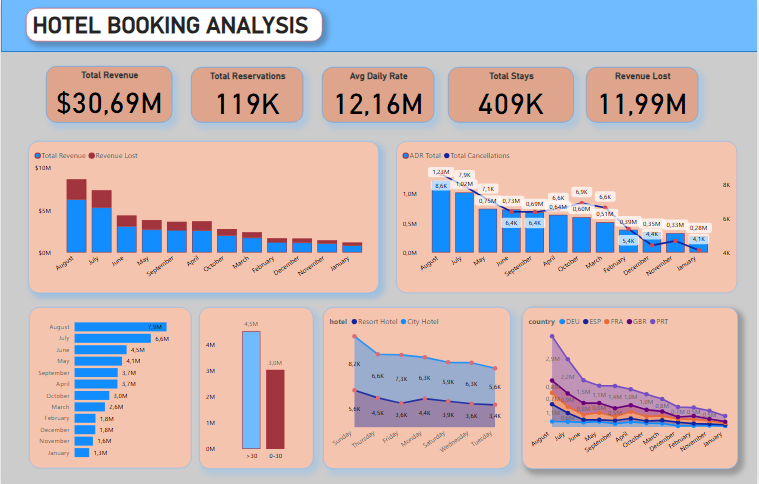

This screenshot's page, from the dashboard's own definition file:
{"tool":"powerbi","page":{"name":"Income","canvas":[1400,900],"ordinal":4},"visuals":[{"type":"columnChart","fields":{"Y":["Total Measures.Total Revenue","Total Measures.Revenue Lost"],"Category":["hotel_bookings.arrival_date_month"]},"box":[50,261.7,650,281.7],"z":0},{"type":"lineStackedColumnComboChart","fields":{"Category":["hotel_bookings.arrival_month"],"Y2":["Total Measures.Total Cancellations"],"Y":["Total Measures.ADR Total"]},"box":[731.7,261.7,631.7,281.7],"z":1000},{"type":"stackedAreaChart","fields":{"Category":["DateTable.Weekday"],"Y":["Total Measures.Total Cancellations"],"Series":["hotel_bookings.hotel"]},"box":[596.3,569.4,347.9,299.9],"z":2000},{"type":"columnChart","fields":{"Category":["hotel_bookings.Lead Changed"],"Y":["Total Measures.ADR Total"]},"box":[366.7,569.4,212.1,299.9],"z":3000},{"type":"clusteredBarChart","fields":{"Category":["hotel_bookings.arrival_date_month"],"Y":["Total Measures.Weekly Room Revenue"]},"box":[51.5,569.4,301.1,298.7],"z":4000},{"type":"stackedAreaChart","fields":{"Series":["hotel_bookings.country"],"Y":["Total Measures.Weekly Room Revenue"],"Category":["hotel_bookings.arrival_date_month"]},"box":[963.9,568.9,400,300],"z":5000},{"type":"shape","box":[0,-4.9,1463.9,101.6],"z":6000},{"type":"textbox","title":"HOTEL BOOKING ANALYSIS","box":[45.9,14.8,549.2,62.3],"z":7000},{"type":"card","title":"Total Revenue","fields":{"Values":["Total Measures.Total Revenue"]},"box":[83.7,122.5,234.1,105.4],"z":8000},{"type":"card","title":"Total Reservations","fields":{"Values":["Total Measures.Transactions"]},"box":[352.5,124.6,208.2,103.3],"z":9000},{"type":"card","title":"Avg Daily Rate","fields":{"Values":["Sum(hotel_bookings.adr)"]},"box":[595.1,124.6,208.2,103.3],"z":10000},{"type":"card","title":"Total Stays","fields":{"Values":["hotel_bookings.Total Stays"]},"box":[827.9,124.6,232.8,103.3],"z":11000},{"type":"card","title":"Revenue Lost","fields":{"Values":["Total Measures.Revenue Lost"]},"box":[1083.6,124.6,208.2,103.3],"z":12000}]}

Visuals, with their boxes in screenshot pixels (x1, y1, x2, y2), scaled from the page's 1400x900 canvas onto the 759x484 screenshot:
columnChart - Total Measures.Total Revenue x Total Measures.Revenue Lost: rect(27, 141, 380, 292)
lineStackedColumnComboChart - hotel_bookings.arrival_month x Total Measures.Total Cancellations: rect(397, 141, 739, 292)
stackedAreaChart - DateTable.Weekday x Total Measures.Total Cancellations: rect(323, 306, 512, 467)
columnChart - hotel_bookings.Lead Changed x Total Measures.ADR Total: rect(199, 306, 314, 467)
clusteredBarChart - hotel_bookings.arrival_date_month x Total Measures.Weekly Room Revenue: rect(28, 306, 191, 467)
stackedAreaChart - hotel_bookings.country x Total Measures.Weekly Room Revenue: rect(523, 306, 739, 467)
shape: rect(0, 0, 758, 52)
"HOTEL BOOKING ANALYSIS" textbox: rect(25, 8, 323, 41)
"Total Revenue" card: rect(45, 66, 172, 123)
"Total Reservations" card: rect(191, 67, 304, 123)
"Avg Daily Rate" card: rect(323, 67, 436, 123)
"Total Stays" card: rect(449, 67, 575, 123)
"Revenue Lost" card: rect(587, 67, 700, 123)
